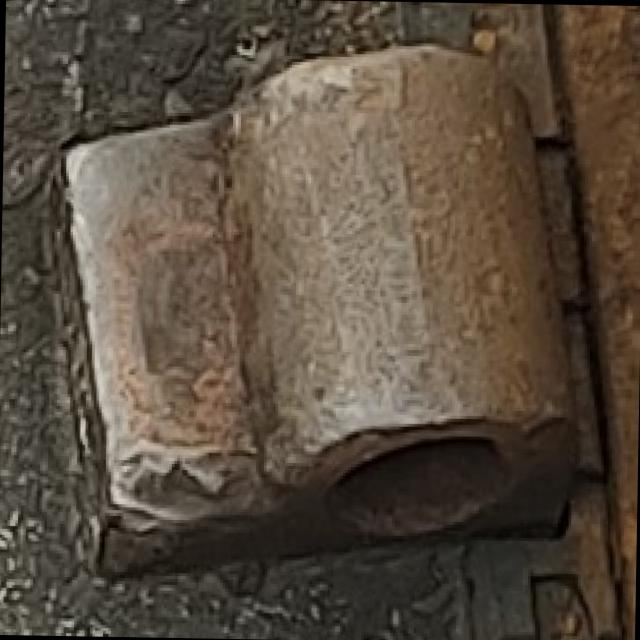track_bolt_missing: (219, 31, 572, 518)
